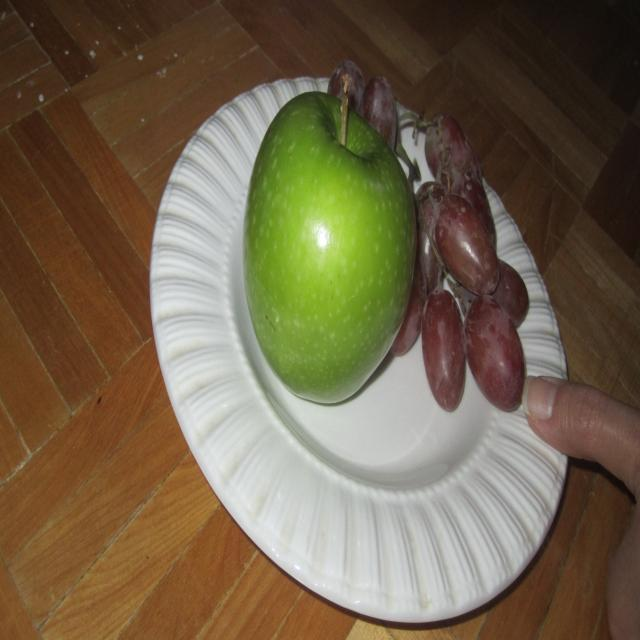apple: (226, 80, 411, 409)
grape: (413, 59, 568, 408)
